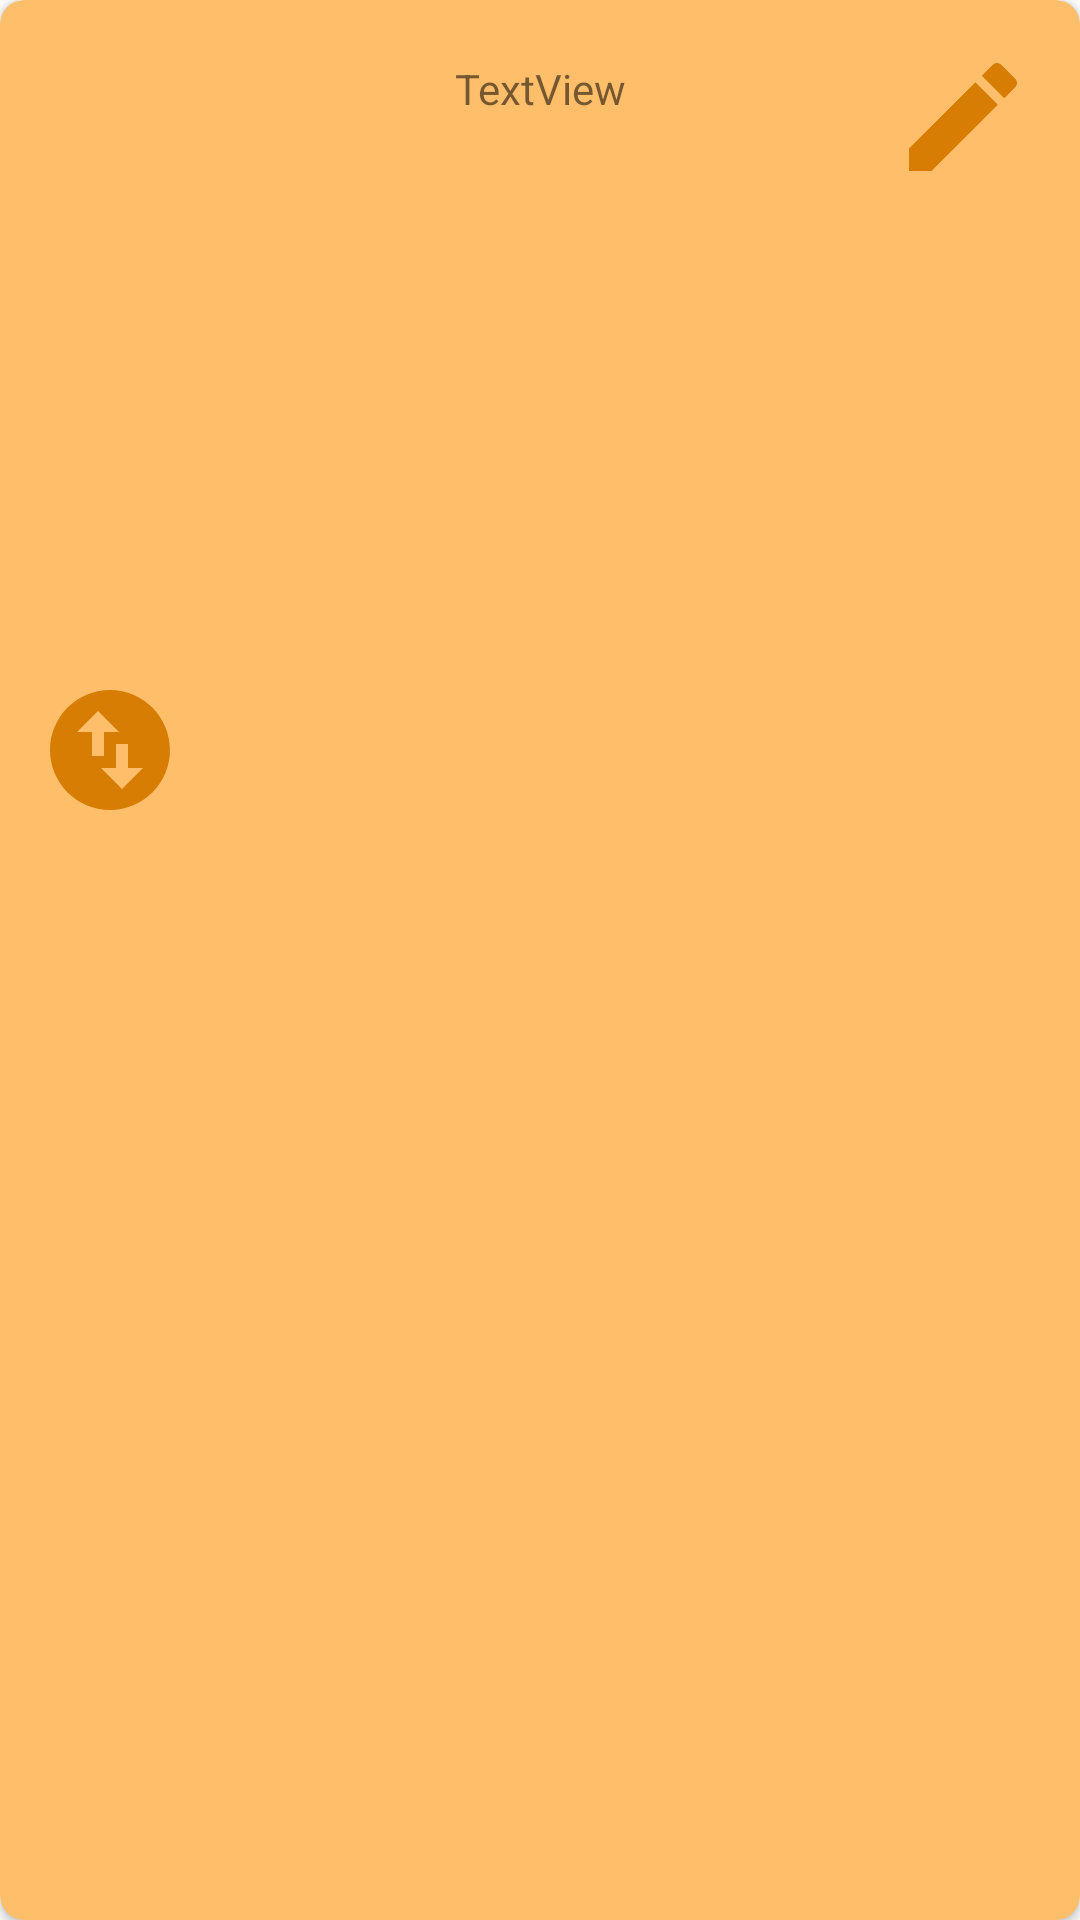

Icons on this 1080 x 1920 Android screen, each with its box as (x1, y1, x2, y2):
edit: (909, 63, 1017, 171)
swap vertical circle: (50, 690, 170, 810)
